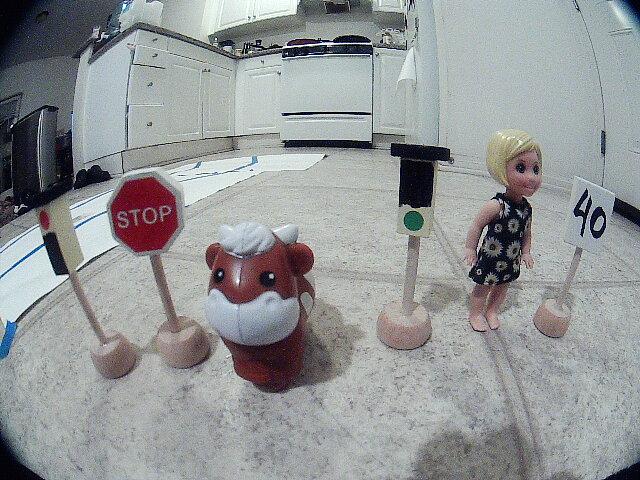Cow: (189, 222, 332, 410)
Green Traffic Light: (383, 127, 457, 256)
Person: (462, 117, 552, 366)
Red Traffic Light: (21, 187, 100, 293)
Speed Limit 40: (560, 151, 629, 270)
Stop Sign: (92, 167, 201, 266)
